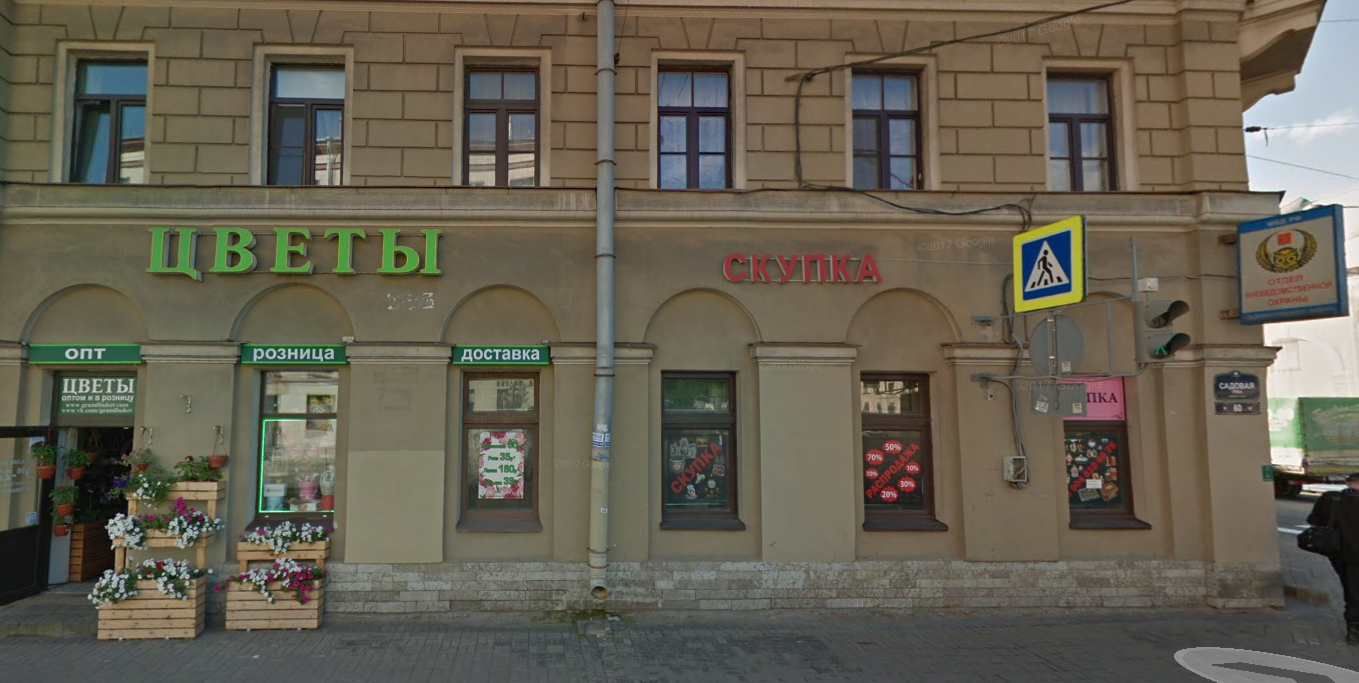cantilever: (1213, 204, 1347, 328)
signboard: (139, 210, 451, 282), (704, 243, 887, 294)
window: (262, 362, 339, 522), (859, 372, 932, 515), (655, 59, 734, 191), (463, 58, 544, 184), (65, 52, 143, 182), (466, 375, 536, 513), (267, 63, 343, 185), (662, 374, 729, 512), (848, 68, 921, 190), (1072, 375, 1131, 514), (1052, 72, 1113, 197)
